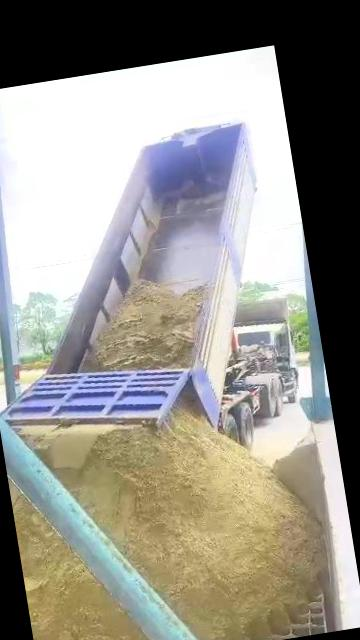sand: (27, 404, 325, 640), (11, 487, 160, 640), (83, 281, 207, 371), (274, 435, 323, 522), (176, 379, 206, 416)
